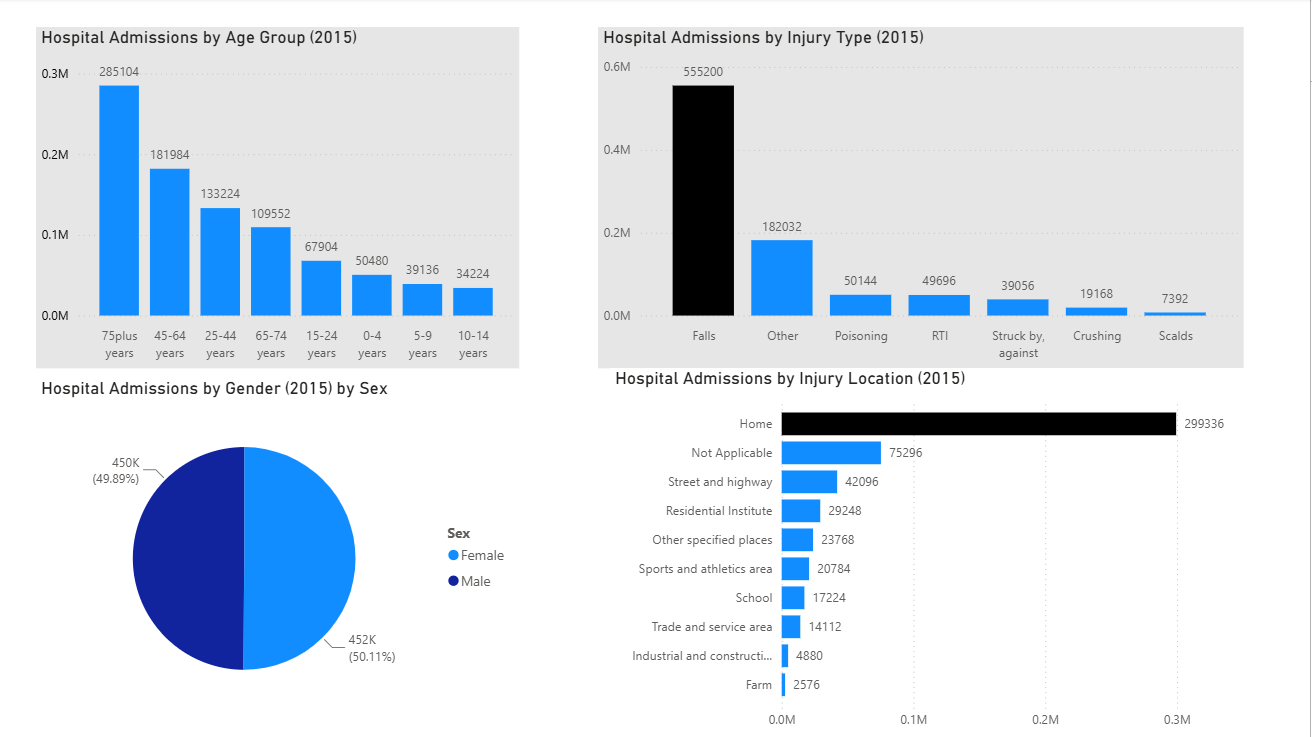

The dashboard page shown, as its layout file describes it:
{"tool":"powerbi","page":{"name":"Admissions ","canvas":[1280,720],"ordinal":0},"visuals":[{"type":"clusteredColumnChart","title":"Hospital Admissions by Age Group (2015)","fields":{"Category":["DimAgeGroup.AgeGroup"],"Y":["Sum(Admissions_2015.NumberOfAdmissions)"]},"box":[39.9,28.2,469.8,331.7],"z":0},{"type":"columnChart","title":"Hospital Admissions by Injury Type (2015)","fields":{"Category":["DimInjuryType_New.InjuryType"],"Y":["Sum(Admissions_2015.NumberOfAdmissions)"]},"box":[586.5,28.2,628.3,331.7],"z":1000},{"type":"pieChart","fields":{"Category":["DimSex.Sex"],"Y":["Sum(Admissions_2015.NumberOfAdmissions)"]},"box":[40,370,470,332],"z":2000},{"type":"clusteredBarChart","title":"Hospital Admissions by Injury Location (2015)","fields":{"Category":["Admissions_2015.InjuryLocation"],"Y":["Sum(Admissions_2015.NumberOfAdmissions)"]},"box":[598.2,359.9,616.7,359.9],"z":3000}]}

Visuals, with their boxes in screenshot pixels (x1, y1, x2, y2), scaled from the page's 1280x720 canvas onto the 1312x737 screenshot:
"Hospital Admissions by Age Group (2015)" clusteredColumnChart: (x1=41, y1=29, x2=522, y2=368)
"Hospital Admissions by Injury Type (2015)" columnChart: (x1=601, y1=29, x2=1245, y2=368)
pieChart - DimSex.Sex x Sum(Admissions_2015.NumberOfAdmissions): (x1=41, y1=379, x2=523, y2=719)
"Hospital Admissions by Injury Location (2015)" clusteredBarChart: (x1=613, y1=368, x2=1245, y2=736)
